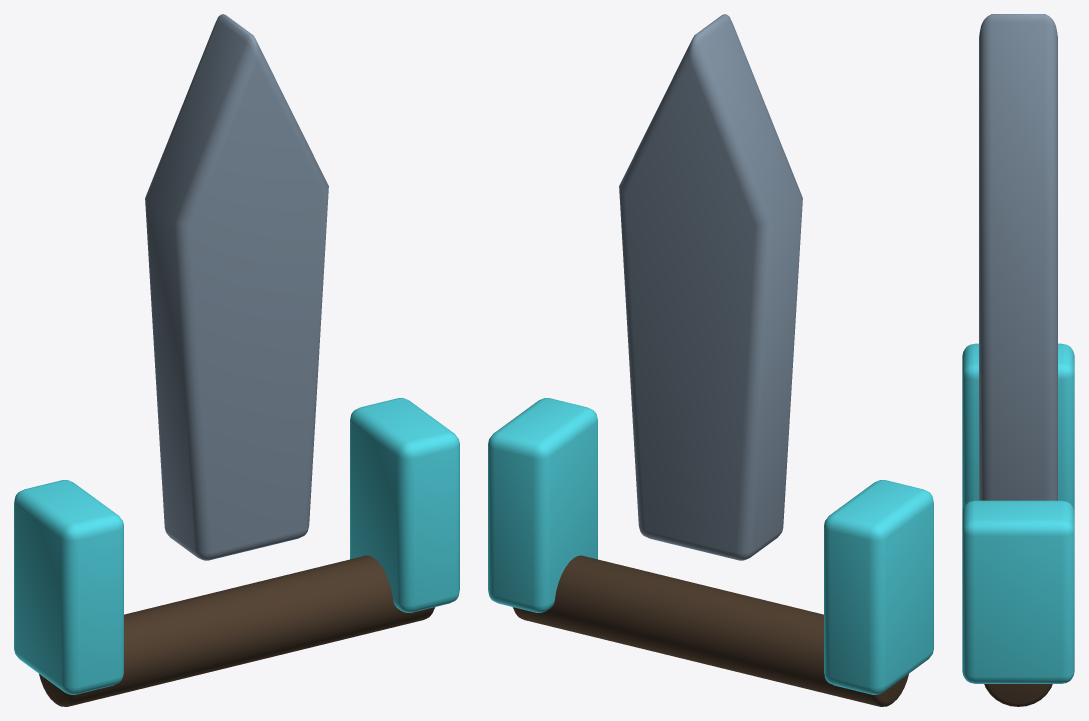
File: dagger_v4.glb
3 views of the same model, side by side, from view 1: azimuth 30°, elevation 25°; view 2: azimuth 150°, elevation 25°; view 3: azimuth 270°, elevation 25° (orthographic). The views are drawn at different scales.
Parts seen in each view (by area): view 1: PUNCH_BLADE_PRIMARY, PUNCH_HANDLE_SECONDARY, PUNCH_GUARD_ACCENT, PUNCH_GUARD_ACCENT.001; view 2: PUNCH_BLADE_PRIMARY, PUNCH_HANDLE_SECONDARY, PUNCH_GUARD_ACCENT, PUNCH_GUARD_ACCENT.001; view 3: PUNCH_BLADE_PRIMARY, PUNCH_GUARD_ACCENT.001, PUNCH_GUARD_ACCENT, PUNCH_HANDLE_SECONDARY.
Part boxes in pixels (x1,y1,x2,y2): PUNCH_BLADE_PRIMARY: (145, 14, 328, 560); PUNCH_HANDLE_SECONDARY: (39, 555, 435, 706); PUNCH_GUARD_ACCENT: (14, 480, 123, 694); PUNCH_GUARD_ACCENT.001: (350, 398, 459, 612); PUNCH_BLADE_PRIMARY: (619, 14, 802, 560); PUNCH_HANDLE_SECONDARY: (512, 555, 908, 706); PUNCH_GUARD_ACCENT: (824, 480, 933, 694); PUNCH_GUARD_ACCENT.001: (488, 398, 597, 612); PUNCH_BLADE_PRIMARY: (979, 14, 1057, 500); PUNCH_GUARD_ACCENT.001: (962, 500, 1074, 683); PUNCH_GUARD_ACCENT: (962, 343, 1074, 511); PUNCH_HANDLE_SECONDARY: (984, 684, 1052, 706).
Size of the model in its own units: 1.56 by 2.39 by 0.4.
